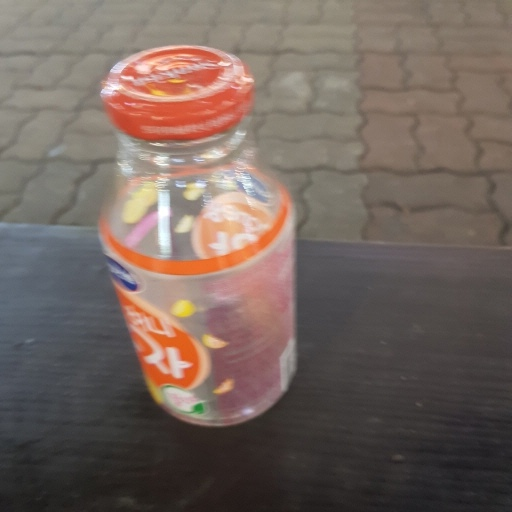Glass_4: (87, 41, 308, 425)
